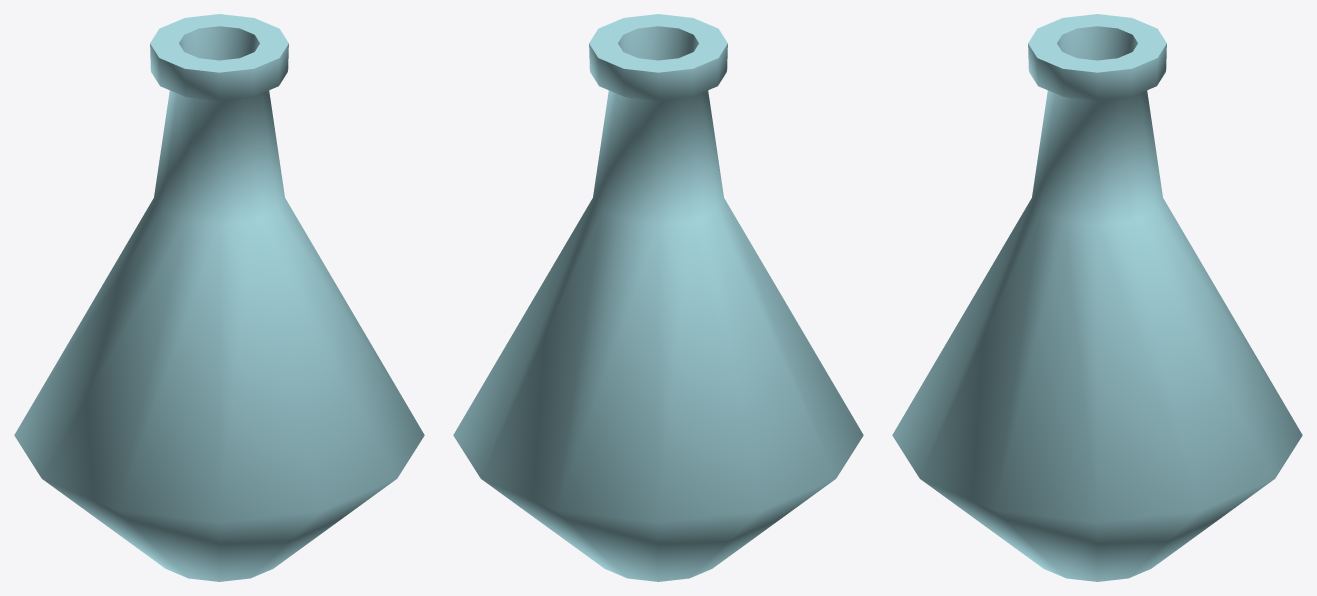
Rendered from PotionBottleFilled5.fbx.
The picture shows the model from 3 angles, left to right: view 1: azimuth 30°, elevation 25°; view 2: azimuth 150°, elevation 25°; view 3: azimuth 270°, elevation 25°; orthographic projection.
Parts seen in each view (by area): view 1: PotionBottleFilled5; view 2: PotionBottleFilled5; view 3: PotionBottleFilled5.
Boxes of the visible parts, x1=… form: PotionBottleFilled5: x1=14, y1=14, x2=424, y2=581; PotionBottleFilled5: x1=453, y1=14, x2=863, y2=581; PotionBottleFilled5: x1=892, y1=14, x2=1302, y2=581.
Bounding box in the file's own units: 12.08 × 16.64 × 12.08.
